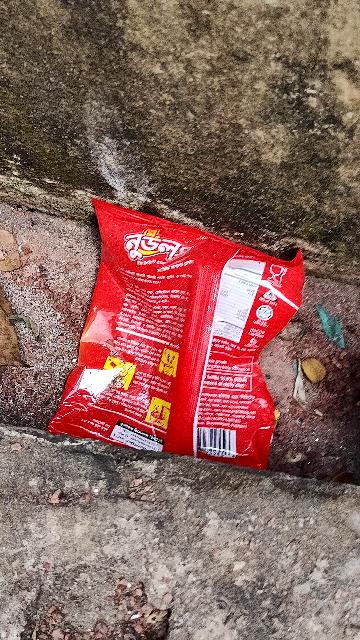packet: (47, 209, 321, 477)
